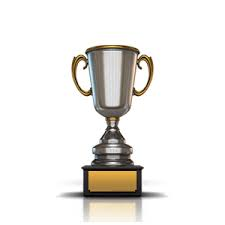trophy: (70, 44, 157, 199)
